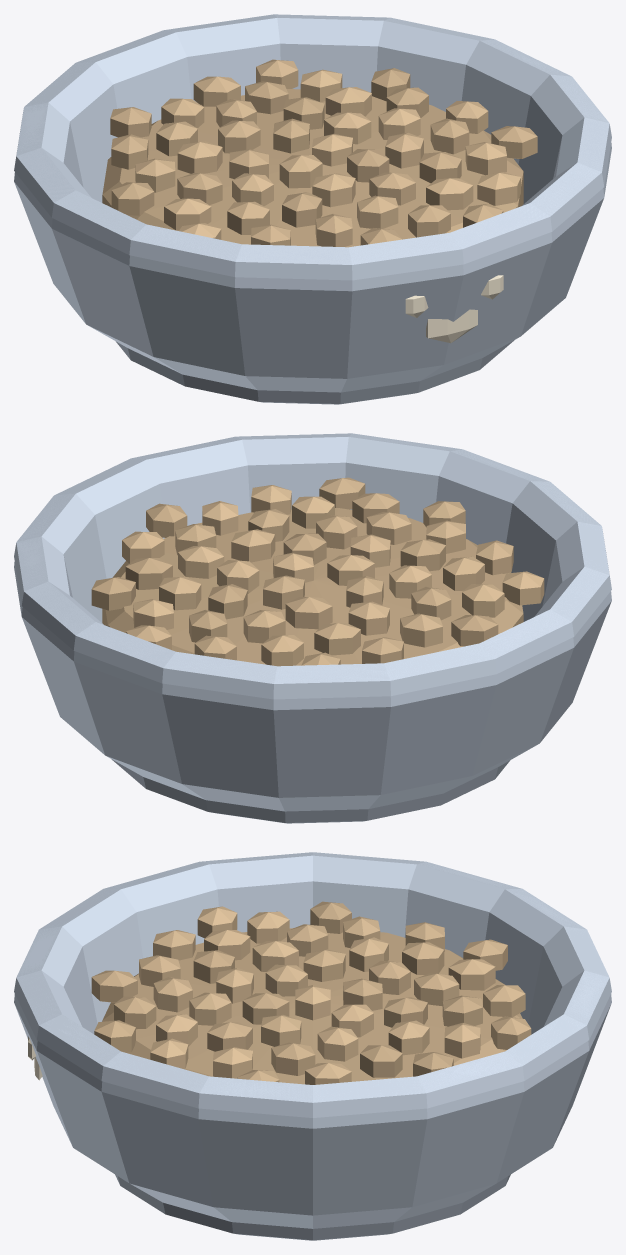
The model's file is crafted-cat-food-1-2.glb.
3 renders of one model, top to bottom at view 1: azimuth 30°, elevation 25°; view 2: azimuth 150°, elevation 25°; view 3: azimuth 270°, elevation 25°, orthographic.
Parts seen in each view (by area): view 1: ceramic-bowl, glazed-rim, ration-volume, foot-ring, ration-granule-24, ration-granule-12, ration-granule-37, ration-granule-19, ration-granule-38, ration-granule-1, ration-granule-14, ration-granule-30 (+37 smaller); view 2: ceramic-bowl, glazed-rim, ration-volume, foot-ring, ration-granule-7, ration-granule-20, ration-granule-8, ration-granule-39, ration-granule-25, ration-granule-13, ration-granule-43, ration-granule-30 (+37 smaller); view 3: ceramic-bowl, glazed-rim, ration-volume, foot-ring, ration-granule-40, ration-granule-26, ration-granule-13, ration-granule-28, ration-granule-21, ration-granule-11, ration-granule-36, ration-granule-20 (+37 smaller).
Boxes of the visible parts, left/top/right/bottom form: ceramic-bowl: left=14, top=14, right=611, bottom=392; glazed-rim: left=14, top=14, right=611, bottom=280; ration-volume: left=102, top=89, right=523, bottom=247; foot-ring: left=116, top=340, right=514, bottom=404; ration-granule-24: left=426, top=178, right=473, bottom=210; ration-granule-12: left=177, top=141, right=222, bottom=173; ration-granule-37: left=477, top=172, right=520, bottom=205; ration-granule-19: left=357, top=195, right=398, bottom=228; ration-granule-38: left=111, top=182, right=154, bottom=215; ration-granule-1: left=279, top=155, right=322, bottom=188; ration-granule-14: left=282, top=192, right=322, bottom=227; ration-granule-30: left=164, top=198, right=211, bottom=230; ceramic-bowl: left=14, top=433, right=611, bottom=811; glazed-rim: left=14, top=433, right=611, bottom=699; ration-volume: left=102, top=508, right=523, bottom=665; foot-ring: left=111, top=759, right=509, bottom=823; ration-granule-7: left=285, top=597, right=332, bottom=629; ration-granule-20: left=314, top=623, right=360, bottom=655; ration-granule-8: left=231, top=529, right=275, bottom=562; ration-granule-39: left=91, top=577, right=135, bottom=610; ration-granule-25: left=400, top=613, right=442, bottom=647; ration-granule-13: left=178, top=546, right=224, bottom=578; ration-granule-43: left=502, top=571, right=544, bottom=605; ration-granule-30: left=462, top=584, right=504, bottom=617; ceramic-bowl: left=14, top=852, right=611, bottom=1228; glazed-rim: left=14, top=852, right=611, bottom=1117; ration-volume: left=102, top=928, right=522, bottom=1084; foot-ring: left=115, top=1174, right=510, bottom=1240; ration-granule-40: left=91, top=970, right=137, bottom=1002; ration-granule-26: left=360, top=1045, right=402, bottom=1077; ration-granule-13: left=317, top=1026, right=358, bottom=1061; ration-granule-28: left=448, top=959, right=495, bottom=990; ration-granule-21: left=271, top=1042, right=315, bottom=1075; ration-granule-11: left=189, top=992, right=231, bottom=1025; ration-granule-36: left=483, top=985, right=525, bottom=1017; ration-granule-20: left=402, top=942, right=444, bottom=974.
Bounding box in the file's own units: 0.76 × 0.265 × 0.76.
